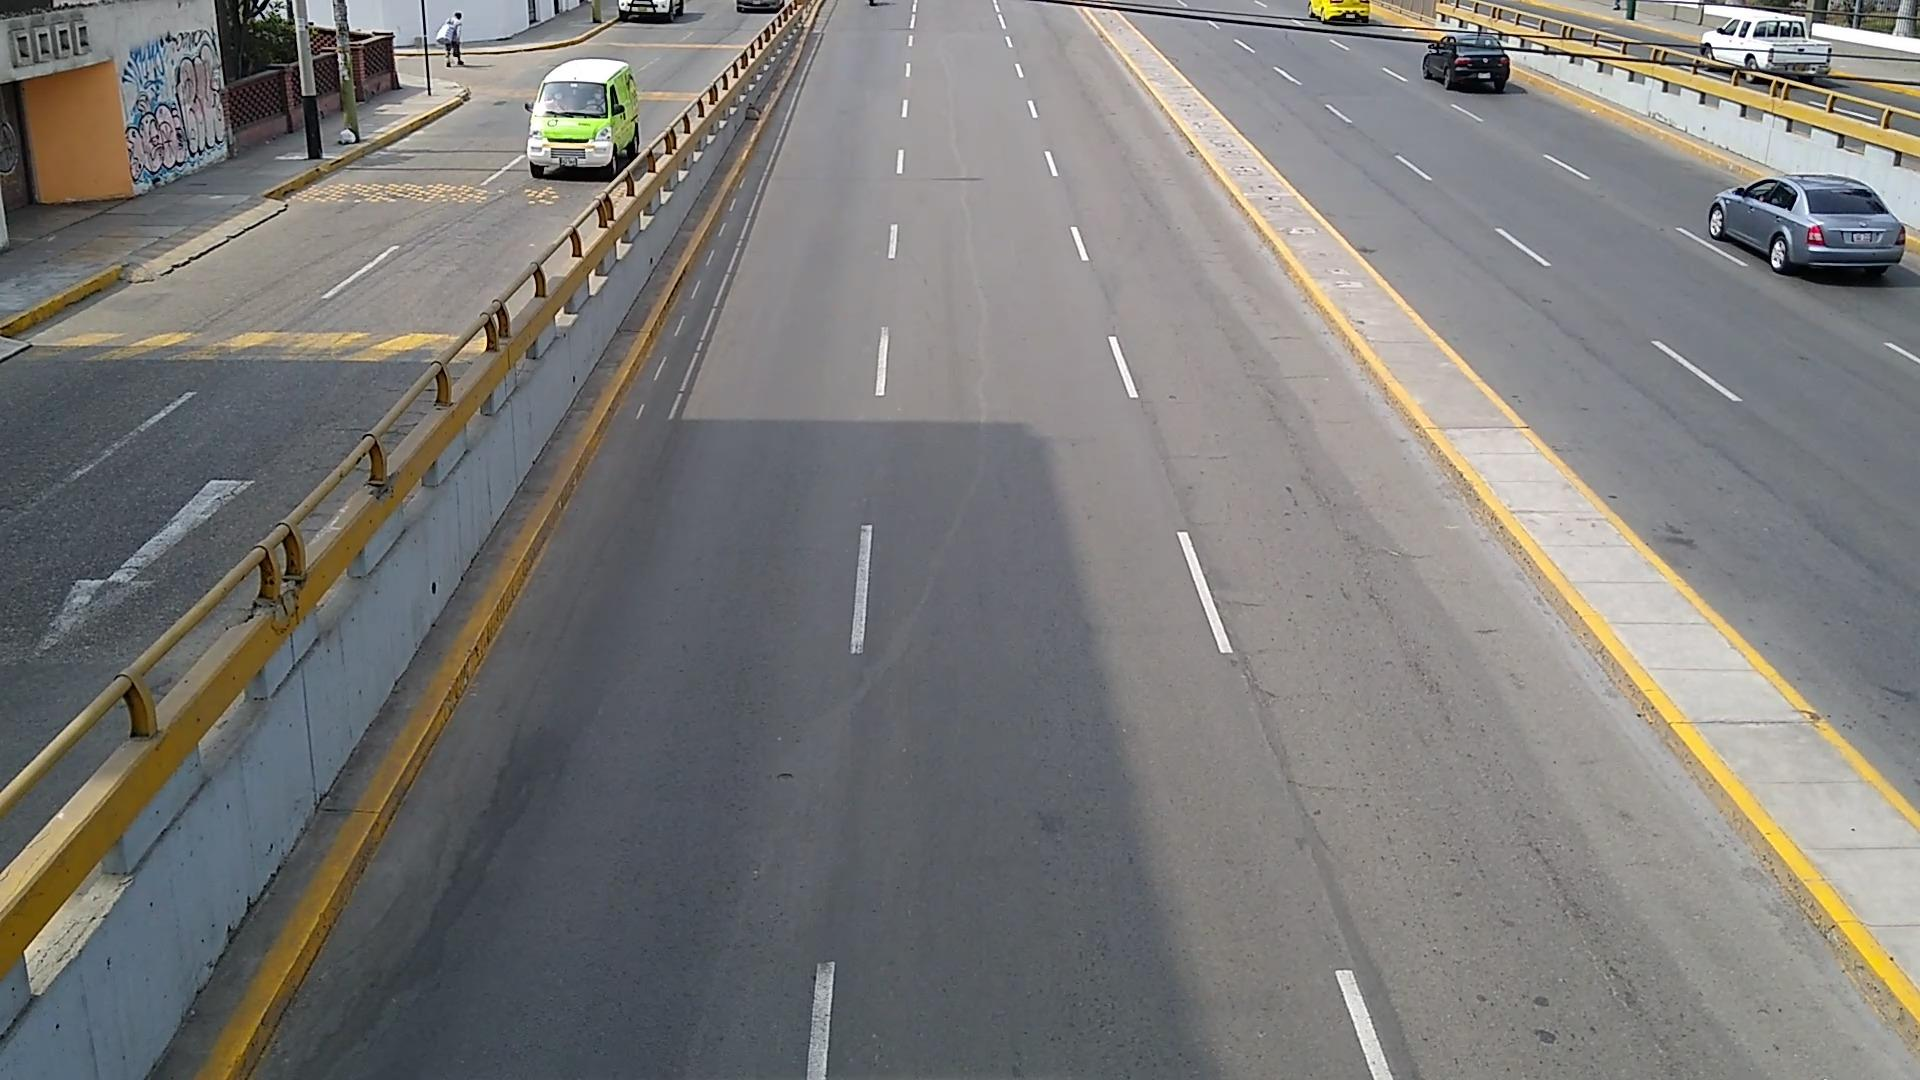car: (1710, 173, 1905, 274), (1702, 12, 1830, 79), (1422, 34, 1511, 90)
minivan: (525, 61, 641, 179)
